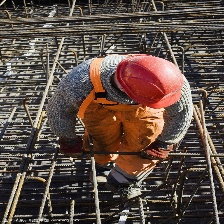helmet: (113, 55, 186, 112)
person: (43, 49, 202, 200)
